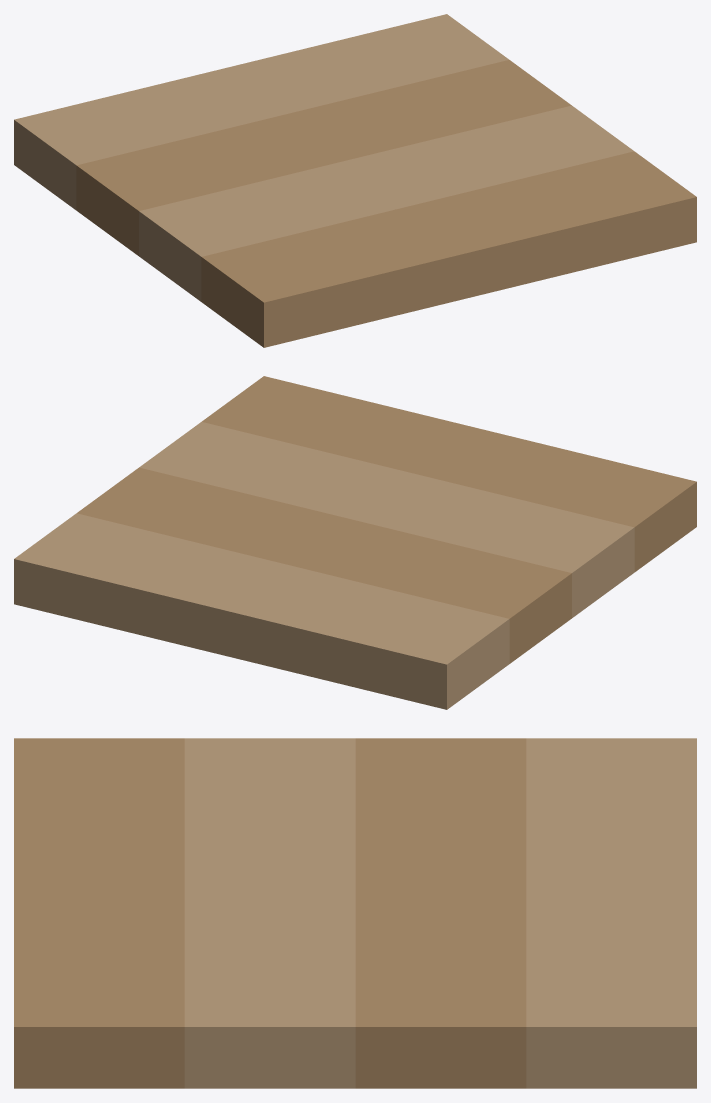
File: kit_floor.glb
3 renders of one model, top to bottom at view 1: azimuth 30°, elevation 25°; view 2: azimuth 150°, elevation 25°; view 3: azimuth 270°, elevation 25°, orthographic. The views are drawn at different scales.
Visible parts, largest first — view 1: plank_0, plank_1, plank_2, plank_3; view 2: plank_3, plank_2, plank_0, plank_1; view 3: plank_1, plank_2, plank_0, plank_3.
Boxes of the visible parts, <box> form: plank_0: <box>201,151,696,347</box>; plank_1: <box>139,105,633,301</box>; plank_2: <box>76,60,571,255</box>; plank_3: <box>14,14,508,209</box>; plank_3: <box>14,513,509,709</box>; plank_2: <box>77,467,571,663</box>; plank_0: <box>202,376,696,571</box>; plank_1: <box>139,422,634,617</box>; plank_1: <box>184,738,355,1088</box>; plank_2: <box>355,738,526,1088</box>; plank_0: <box>14,738,184,1088</box>; plank_3: <box>526,738,696,1088</box>.
Bounding box in the file's own units: 1 × 0.1 × 1.
